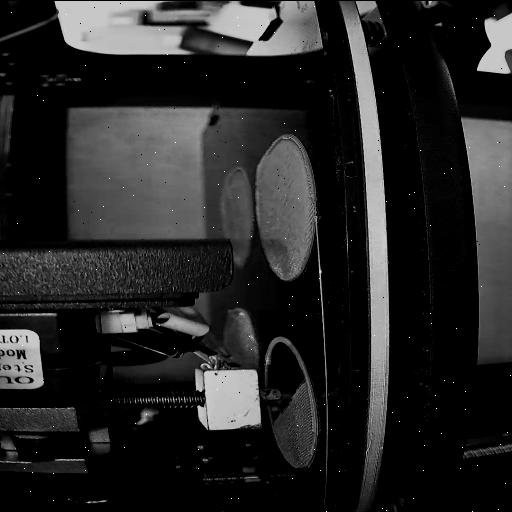over_extrusion: (262, 133, 306, 155)
